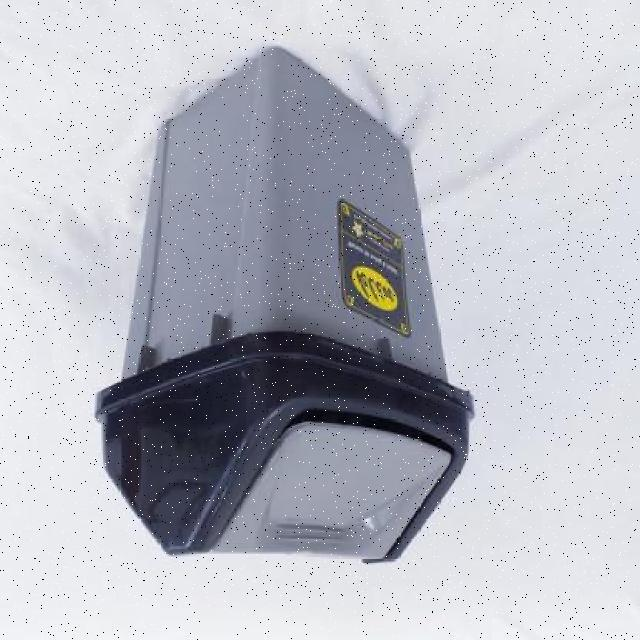garbage container: (87, 28, 492, 577)
